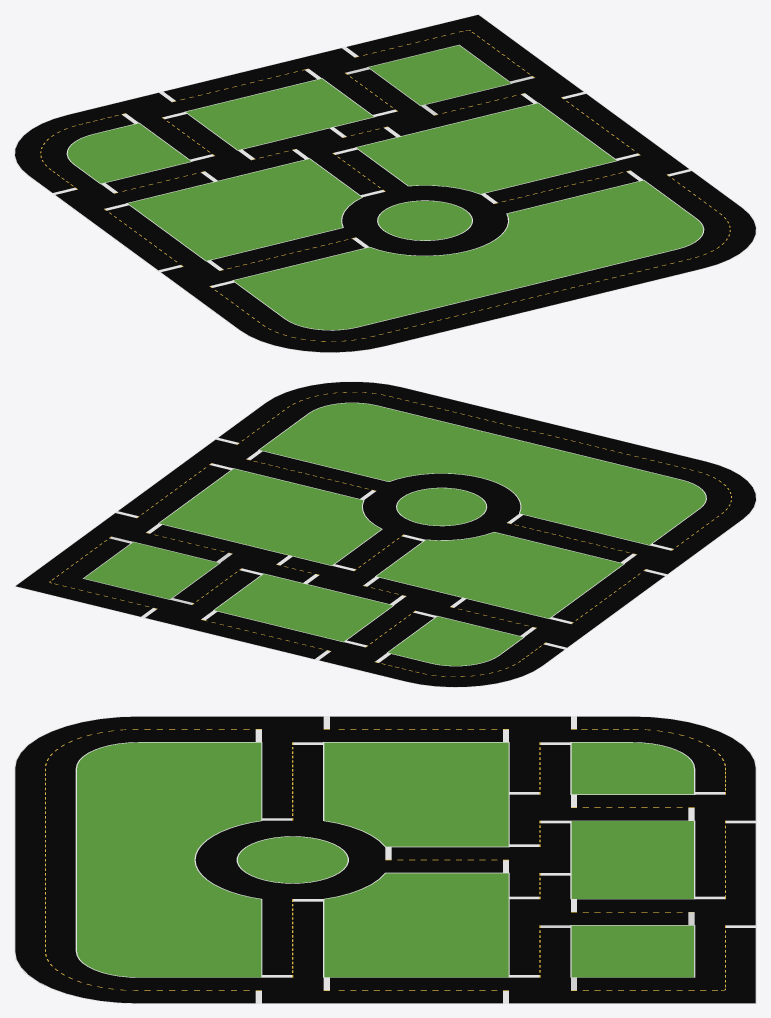
File: cyber_city.dae
The picture shows the model from 3 angles, top to bottom: view 1: azimuth 30°, elevation 25°; view 2: azimuth 150°, elevation 25°; view 3: azimuth 270°, elevation 25°; orthographic projection. The views are drawn at different scales.
Visible parts, largest first — view 1: 69c1c47491053a9c1eb60e01 (×14); view 2: 69c1c47491053a9c1eb60e01 (×15); view 3: 69c1c47491053a9c1eb60e01 (×15).
Part boxes in pixels (bbox=[...]): 69c1c47491053a9c1eb60e01 (×14): bbox=[14, 14, 756, 352]; 69c1c47491053a9c1eb60e01 (×15): bbox=[14, 381, 756, 687]; 69c1c47491053a9c1eb60e01 (×15): bbox=[14, 716, 756, 1003].
Bounding box in the file's own units: 5.51 × 6.01 × 0.0006.
